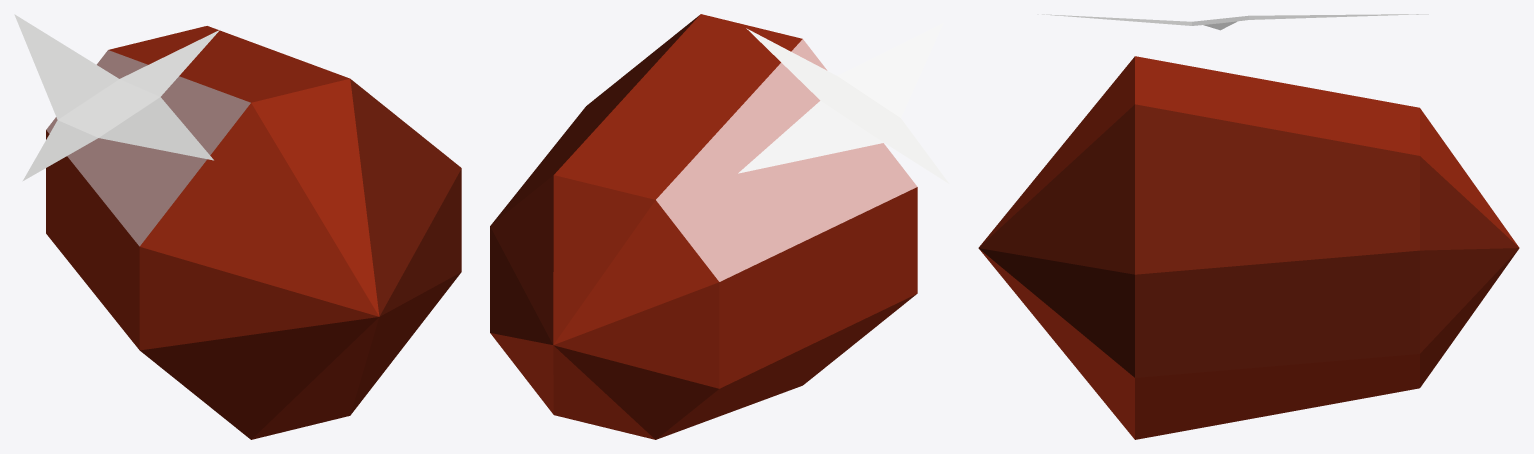
Rendered from inv_sapphire.obj.
3 views of the same model, side by side, from view 1: azimuth 30°, elevation 25°; view 2: azimuth 150°, elevation 25°; view 3: azimuth 270°, elevation 25° (orthographic). The views are drawn at different scales.
Bounding box in the file's own units: 0.25 × 0.2266 × 0.2969.
